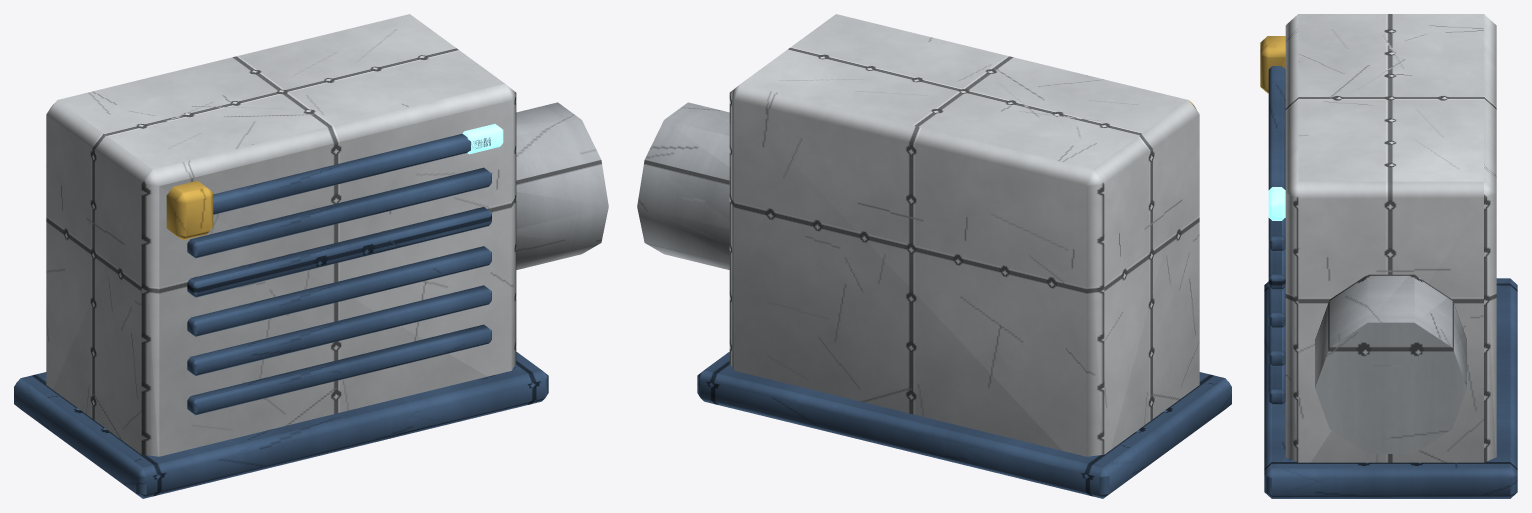
File: vent_filter_unit.glb
The picture shows the model from 3 angles, left to right: view 1: azimuth 30°, elevation 25°; view 2: azimuth 150°, elevation 25°; view 3: azimuth 270°, elevation 25°; orthographic projection. The views are drawn at different scales.
Parts seen in each view (by area): view 1: vent_filter_unit_hull_offwhite, vent_filter_unit_navy_frame, vent_filter_unit_titanium, vent_filter_unit_amber_accent, vent_filter_unit_emissive_cyan; view 2: vent_filter_unit_hull_offwhite, vent_filter_unit_navy_frame, vent_filter_unit_titanium; view 3: vent_filter_unit_hull_offwhite, vent_filter_unit_titanium, vent_filter_unit_navy_frame, vent_filter_unit_amber_accent, vent_filter_unit_emissive_cyan.
Part boxes in pixels (left/top/right/bottom): vent_filter_unit_hull_offwhite: left=46, top=14, right=516, bottom=456; vent_filter_unit_navy_frame: left=14, top=133, right=548, bottom=498; vent_filter_unit_titanium: left=516, top=102, right=608, bottom=269; vent_filter_unit_amber_accent: left=166, top=181, right=213, bottom=240; vent_filter_unit_emissive_cyan: left=462, top=124, right=503, bottom=154; vent_filter_unit_hull_offwhite: left=729, top=14, right=1199, bottom=456; vent_filter_unit_navy_frame: left=697, top=352, right=1231, bottom=498; vent_filter_unit_titanium: left=637, top=102, right=729, bottom=269; vent_filter_unit_hull_offwhite: left=1285, top=14, right=1496, bottom=462; vent_filter_unit_titanium: left=1315, top=274, right=1466, bottom=453; vent_filter_unit_navy_frame: left=1264, top=66, right=1517, bottom=498; vent_filter_unit_amber_accent: left=1260, top=36, right=1285, bottom=93; vent_filter_unit_emissive_cyan: left=1268, top=187, right=1285, bottom=220.
Size of the model in its own units: 1.32 by 0.8 by 0.61.
Materials: 5 (4 with a texture image).
